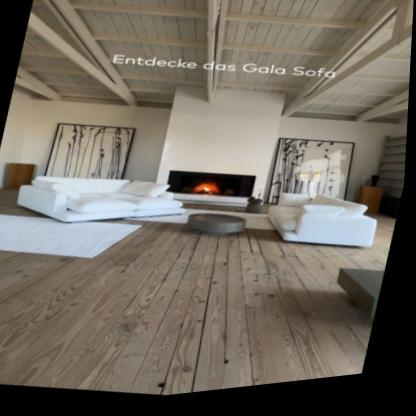Wooden floor: (0, 225, 398, 399)
